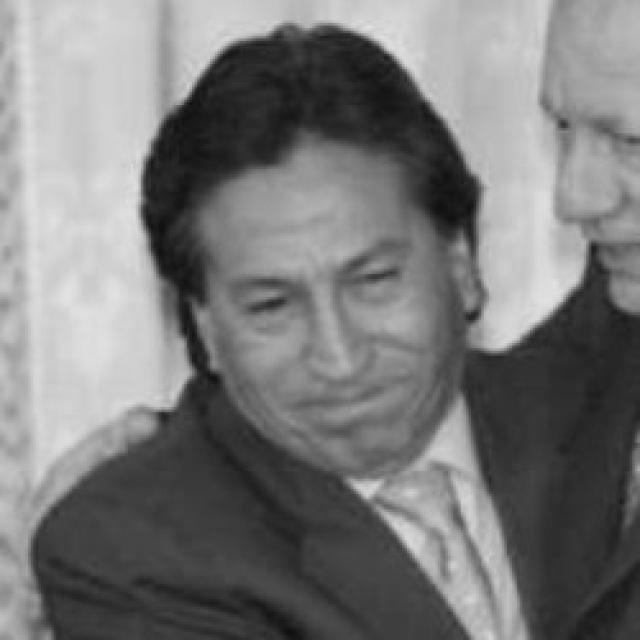real: (131, 74, 478, 434), (538, 1, 640, 316), (219, 250, 422, 336), (551, 105, 640, 158)
